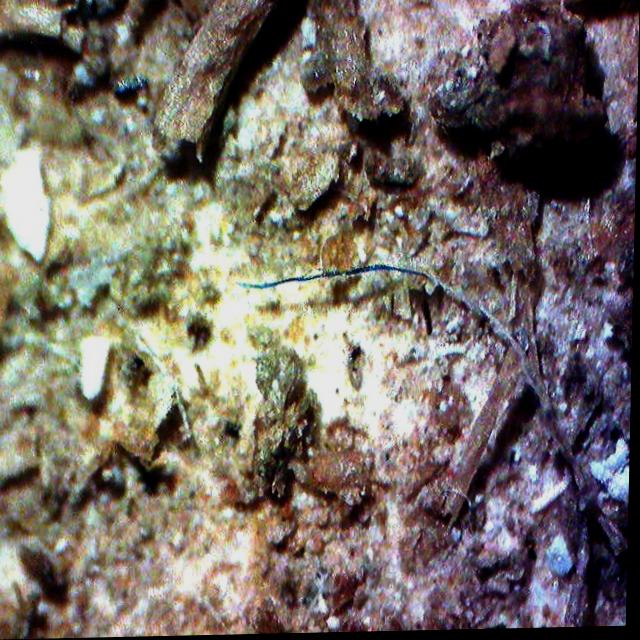microplastic: (241, 265, 431, 291)
